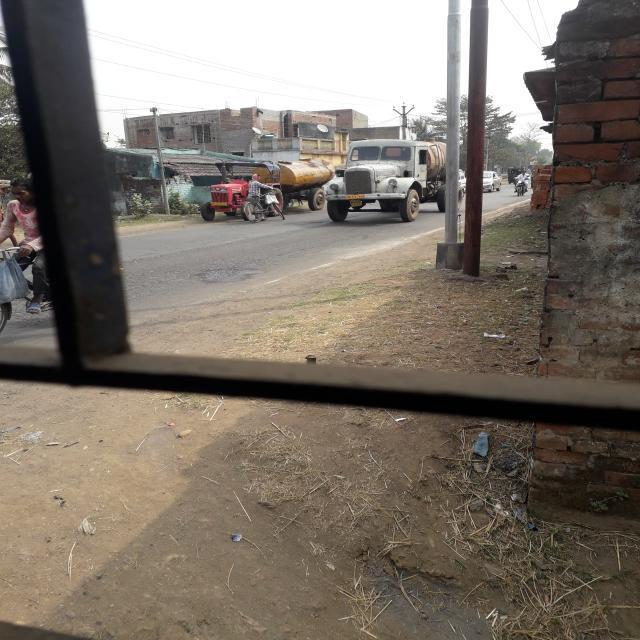tractor_front: (193, 150, 329, 223)
truck_front: (313, 133, 465, 232)
